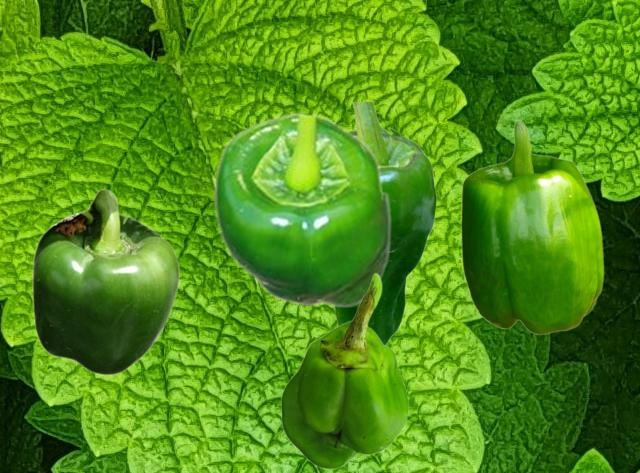bell_pepper: (212, 111, 391, 307), (460, 119, 603, 334), (31, 188, 179, 375), (280, 272, 408, 468), (334, 102, 436, 344)
